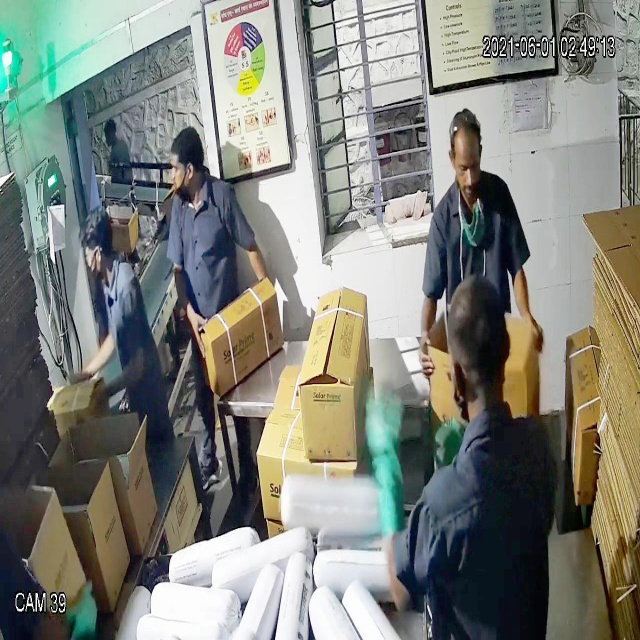Sin_gafas: (446, 145, 487, 187)
